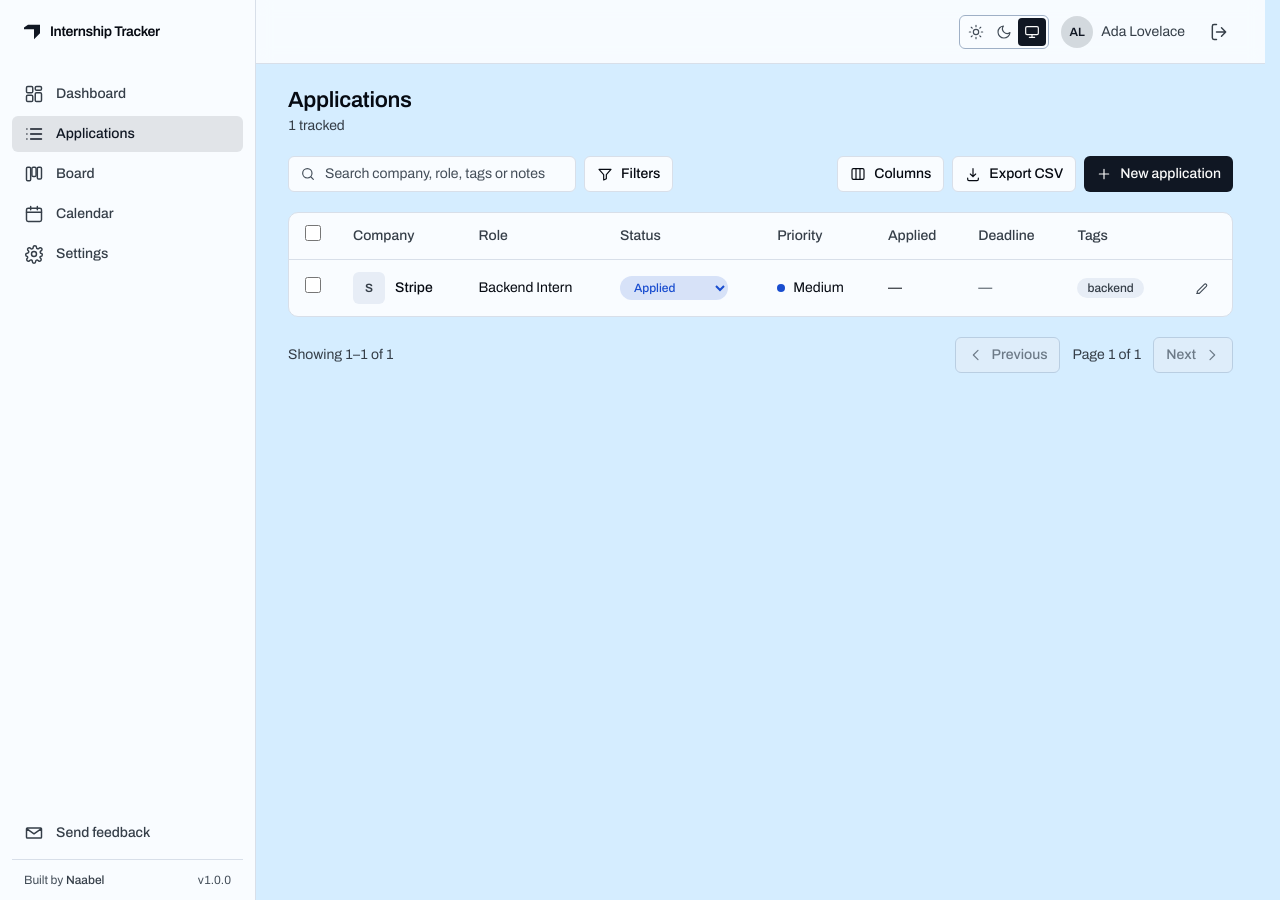
Scenario: version conflict UI › renders the reload or overwrite prompt with the document that won
The image size is (1280, 900).
Expected: the link "S Stripe" is shown, [353,272,433,304]
Click the button named "Edit Stripe" at (1202, 288), box [1188,274,1216,302]
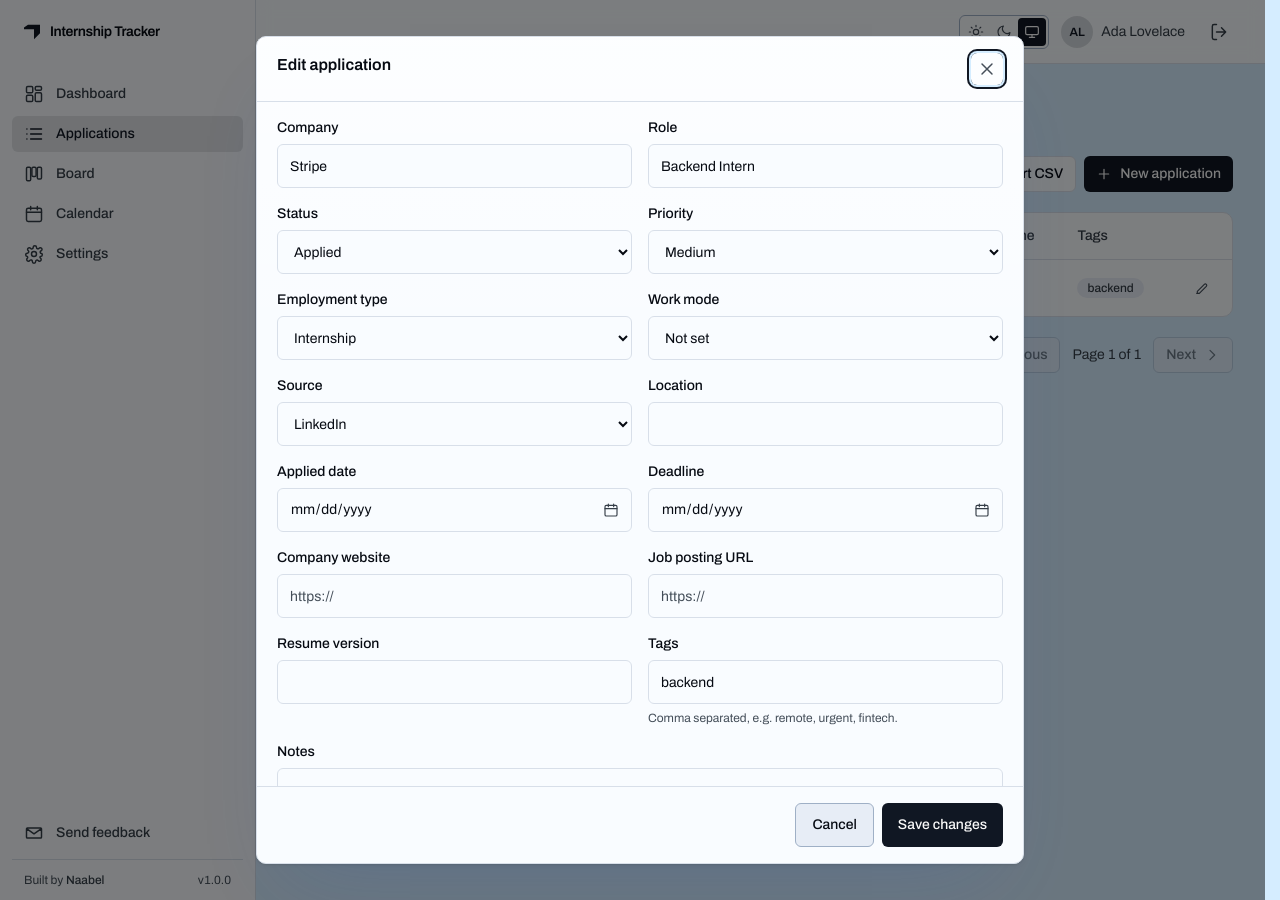
Replace the text in the field labelled "Role" with "Backend Engineer Intern" at (826, 166), box [648,144,1003,188]
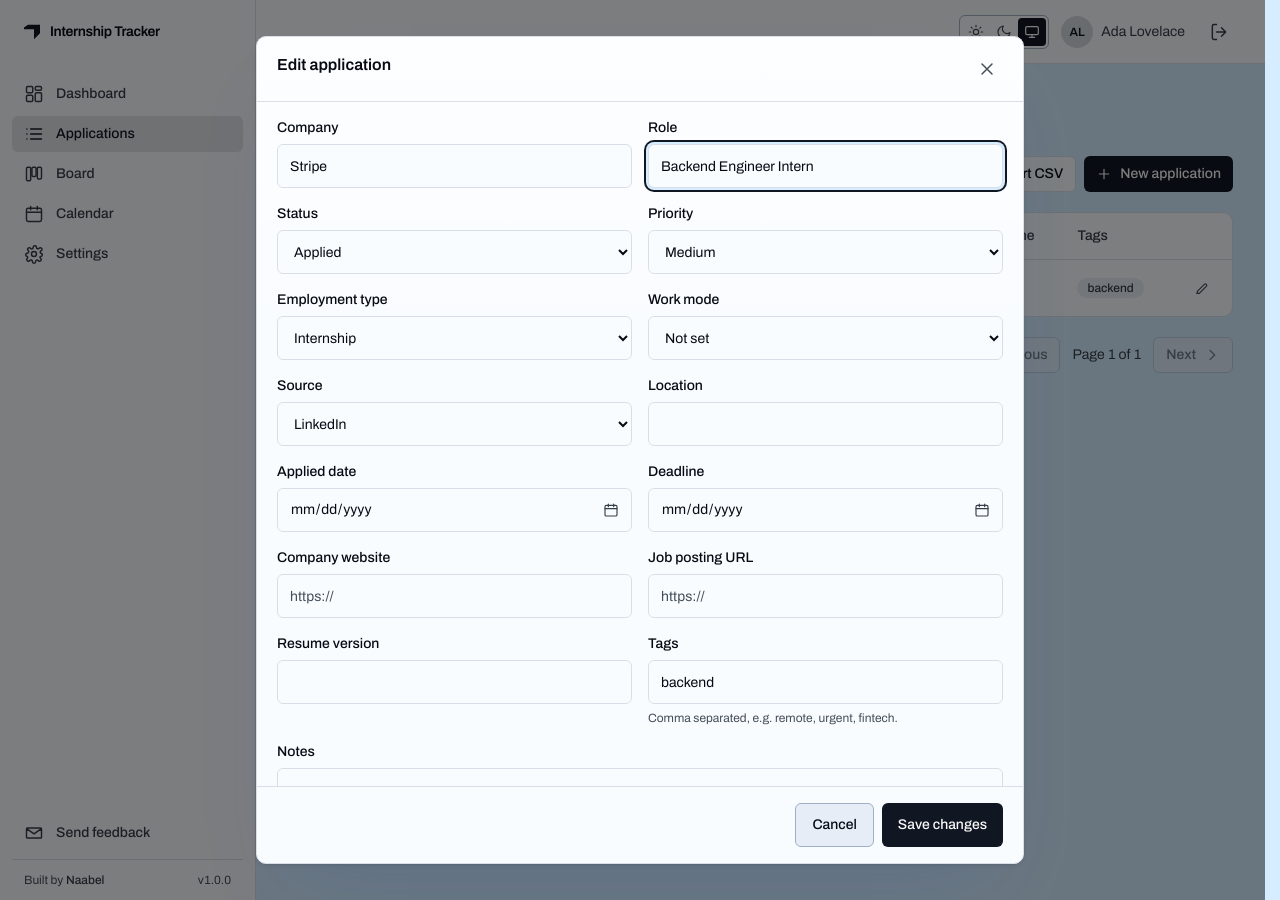
Click the button "Save changes" at (942, 825), box [882,803,1003,847]
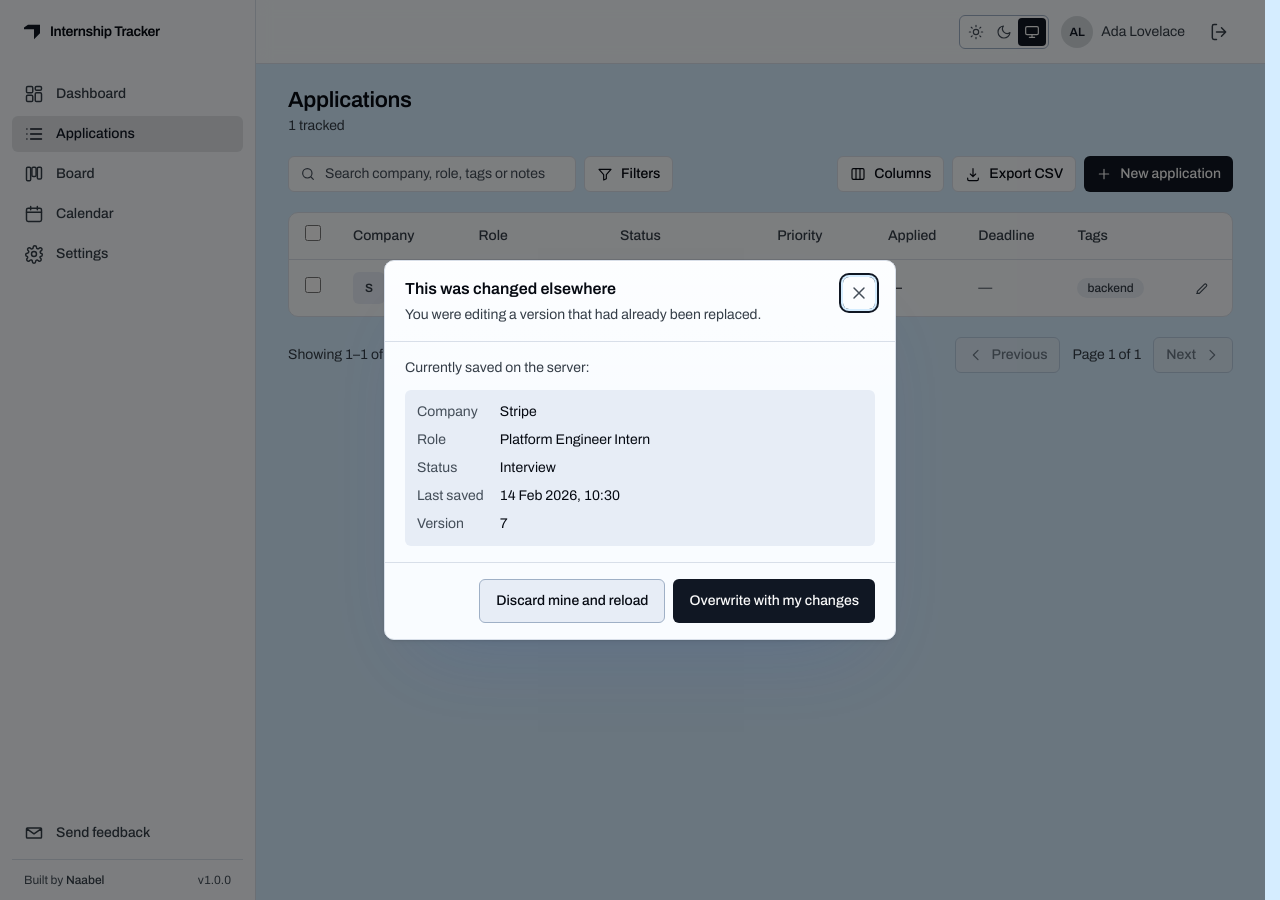
Result: the dialog "This was changed elsewhere" shows "You were editing a version that had already been replaced." at [405,307,761,322]
Result: the element with test id "conflict-current" shows "Platform Engineer Intern" at [500,432,650,447]
Result: the element with test id "conflict-current" shows "Interview" at [500,460,556,475]
